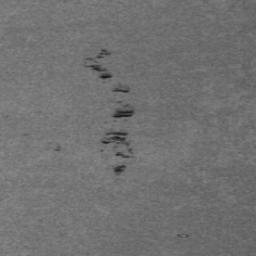Secondary rust skin: (84, 47, 134, 176)
